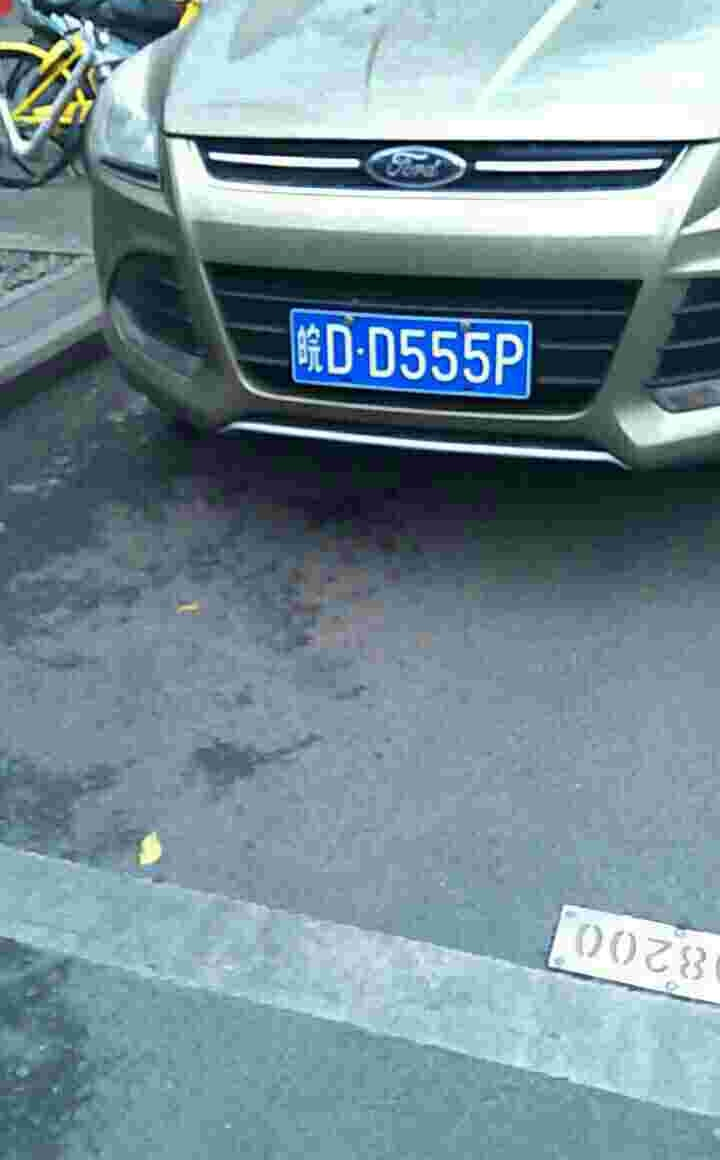license_plate: (291, 307, 525, 404)
